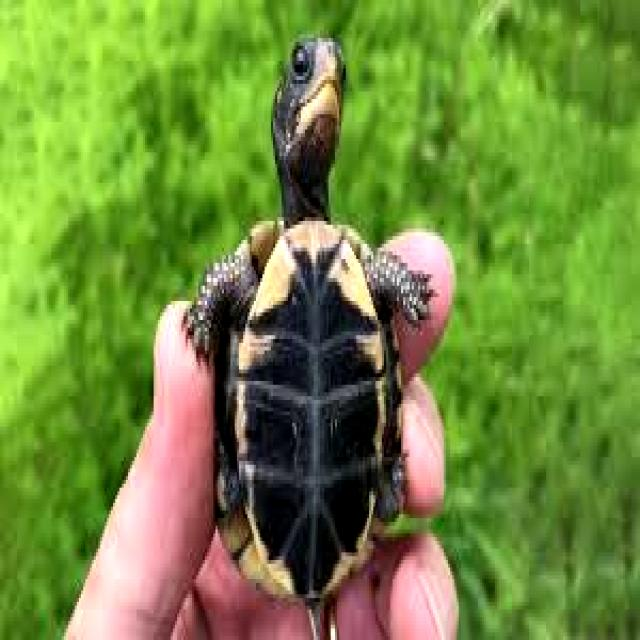Sea turtle: (179, 22, 436, 628)
